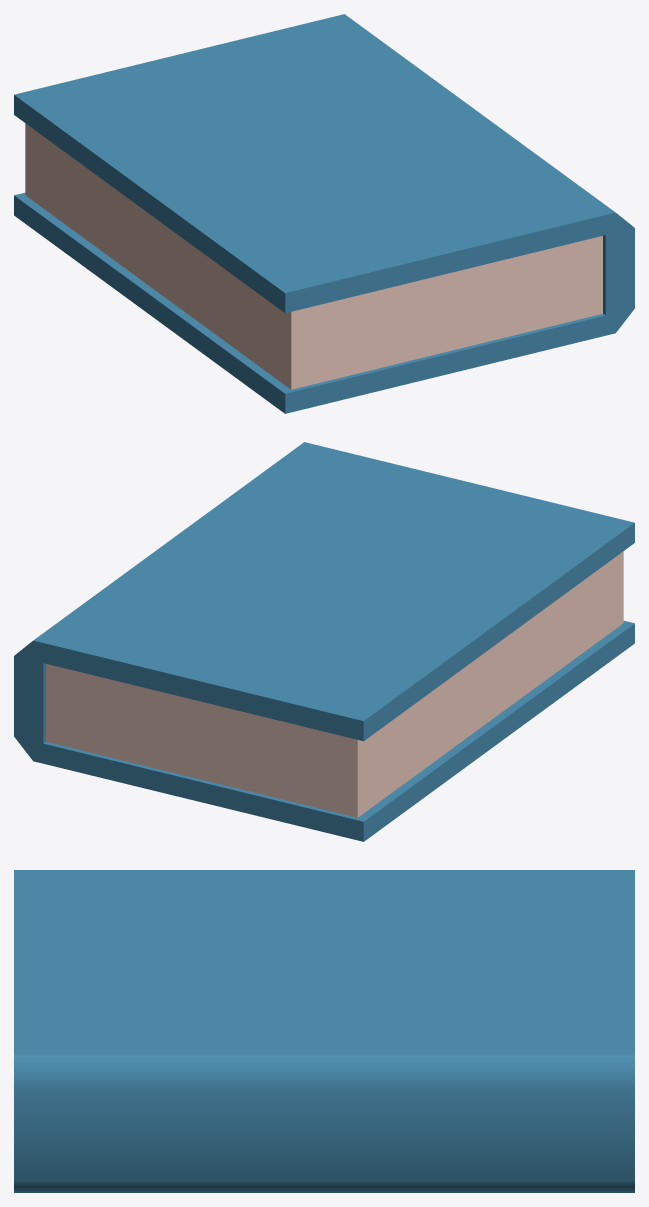
Rendered from SM_Book_2.fbx.
3 views of the same model, one above another, from view 1: azimuth 30°, elevation 25°; view 2: azimuth 150°, elevation 25°; view 3: azimuth 270°, elevation 25° (orthographic). The views are drawn at different scales.
Visible parts, largest first — view 1: Book1; view 2: Book1; view 3: Book1.
Part boxes in pixels (box(x1,y1,x2,y2)): Book1: box(14, 14, 634, 413); Book1: box(14, 442, 634, 841); Book1: box(14, 870, 634, 1192).
Size of the model in its own units: 0.2677 by 0.0883 by 0.3595.
1 material, 1 textured.
